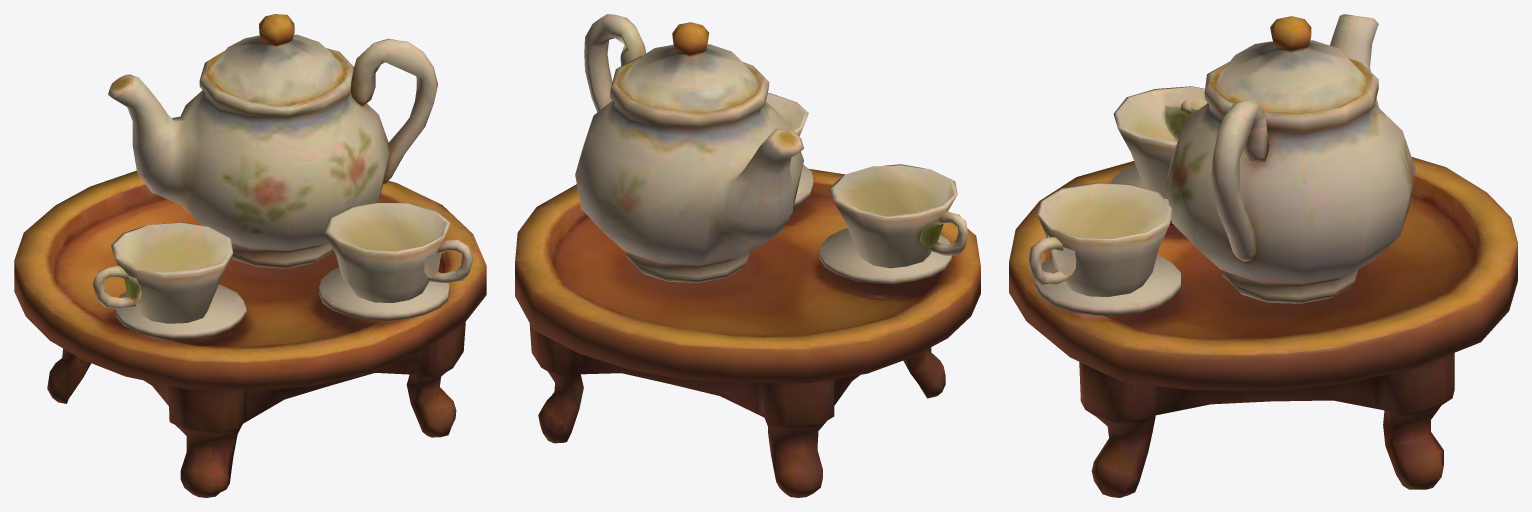
Rendered from wyn_furn_tea_set.glb.
3 views of the same model, side by side, from view 1: azimuth 30°, elevation 25°; view 2: azimuth 150°, elevation 25°; view 3: azimuth 270°, elevation 25° (orthographic). The views are drawn at different scales.
Visible parts, largest first — view 1: tripo_node_39b57c71-4b8f-48f7-8a4f-96d5df27bad3; view 2: tripo_node_39b57c71-4b8f-48f7-8a4f-96d5df27bad3; view 3: tripo_node_39b57c71-4b8f-48f7-8a4f-96d5df27bad3.
Part boxes in pixels (left/top/right/bottom): tripo_node_39b57c71-4b8f-48f7-8a4f-96d5df27bad3: left=14, top=14, right=486, bottom=497; tripo_node_39b57c71-4b8f-48f7-8a4f-96d5df27bad3: left=515, top=14, right=980, bottom=497; tripo_node_39b57c71-4b8f-48f7-8a4f-96d5df27bad3: left=1009, top=14, right=1517, bottom=497.
Bounding box in the file's own units: 0.2717 × 0.25 × 0.2671.
Materials: 1 (1 with a texture image).
